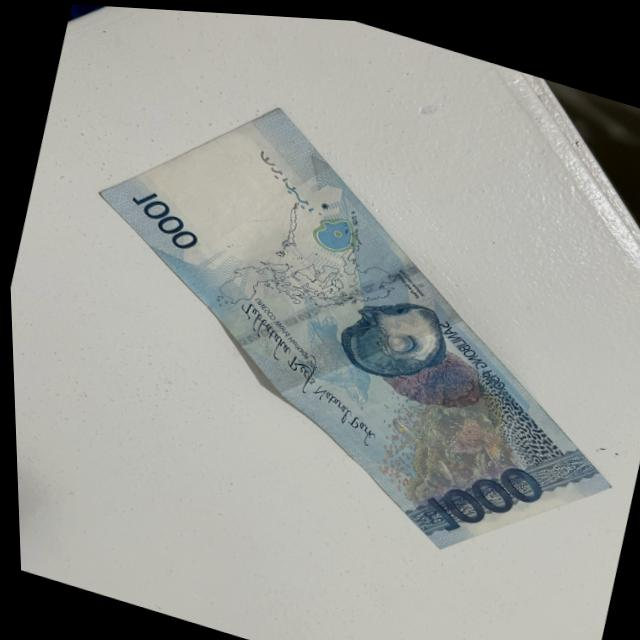1000_pearl: (327, 274, 449, 382)
1000_pearl_watermark: (291, 197, 369, 255)
value_watermark: (192, 122, 266, 188)
watermark: (141, 120, 313, 260)
